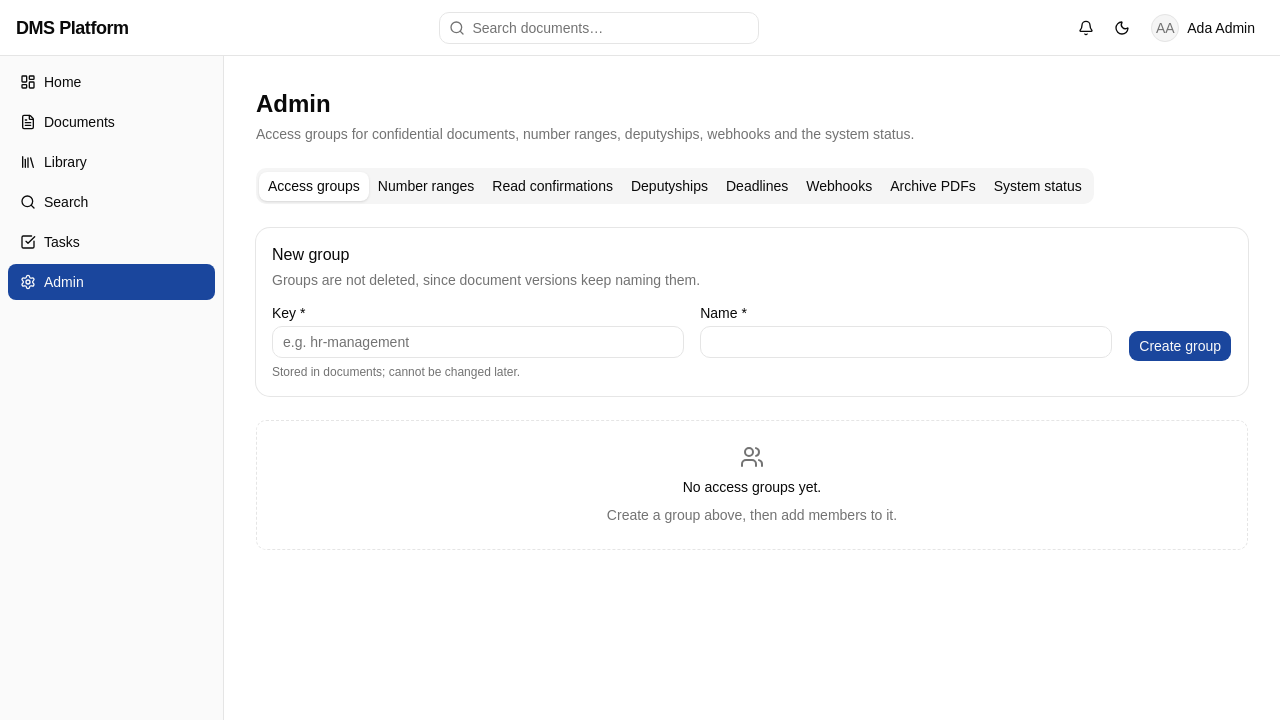
it: admin: webhooks (DMS-107) › sends a test event and shows the outcome
The image size is (1280, 720).
Click the tab "Webhooks" at (839, 186), box [797,172,881,200]
(page scrolled)
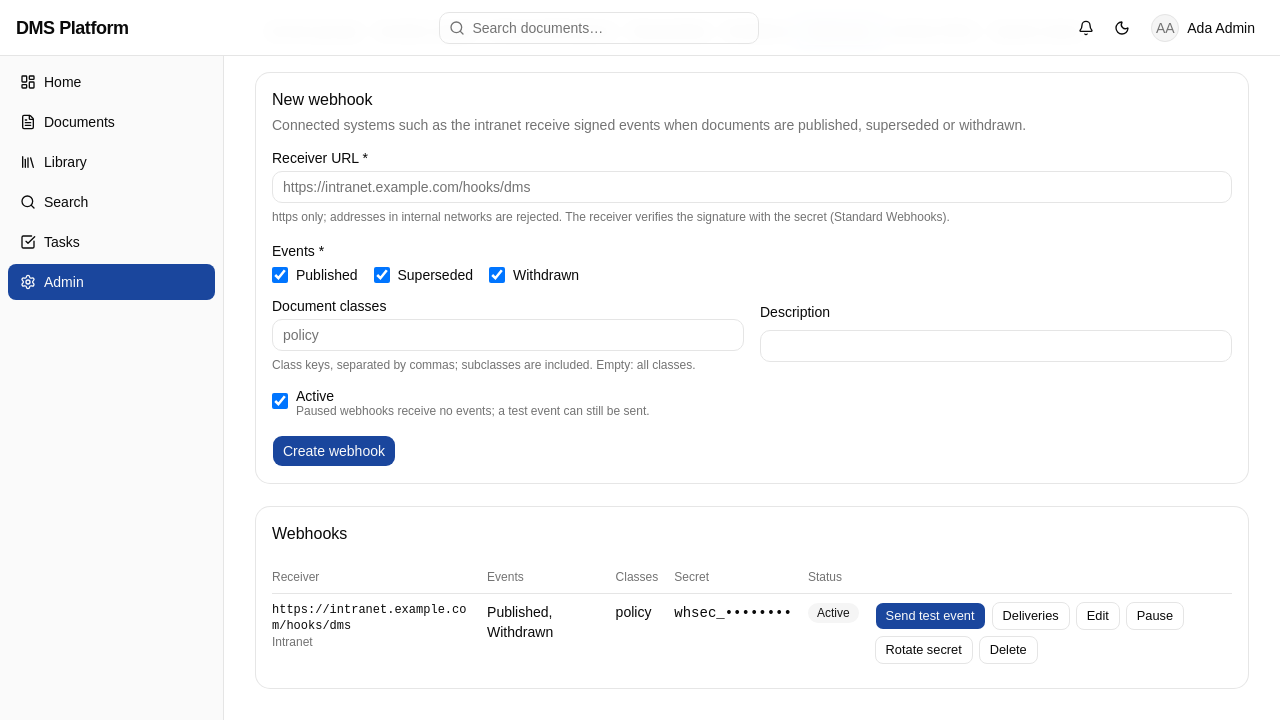
Click the button with aria-label "Send a test event to intranet.example.com" at (930, 616), box [875,602,986,630]
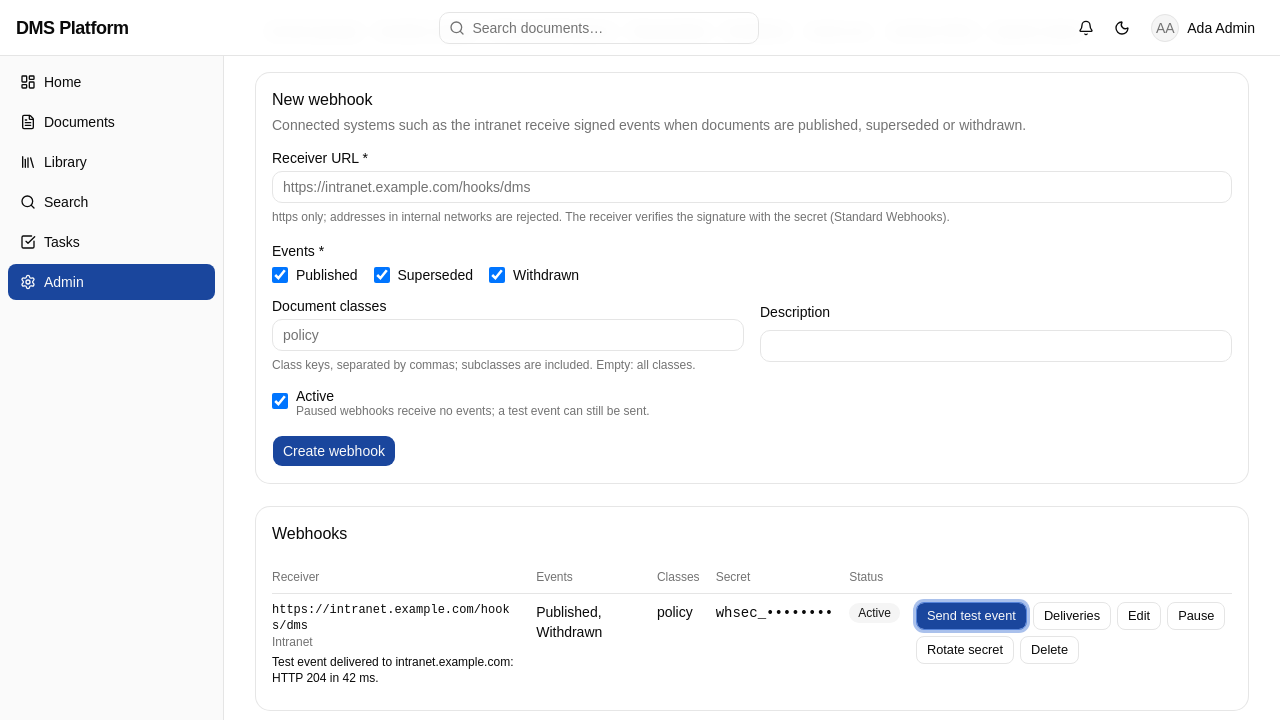
Result: the message with test id "test-w1" reads "Test event delivered to intranet.example.com: HTTP 204 in 42 ms." at [272,655,514,685]
